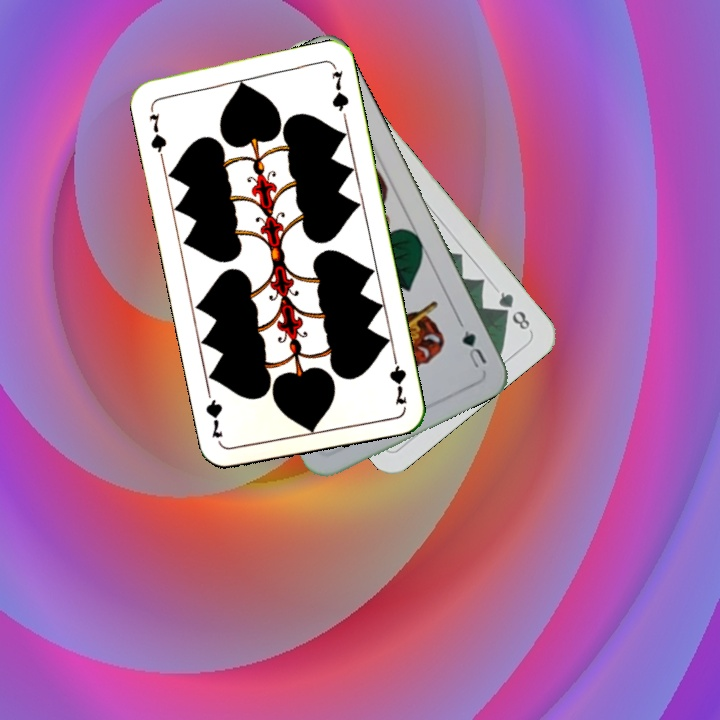G7: (144, 102, 170, 161), (385, 348, 409, 408)
G8: (494, 287, 533, 333)
GU: (458, 326, 490, 372)
